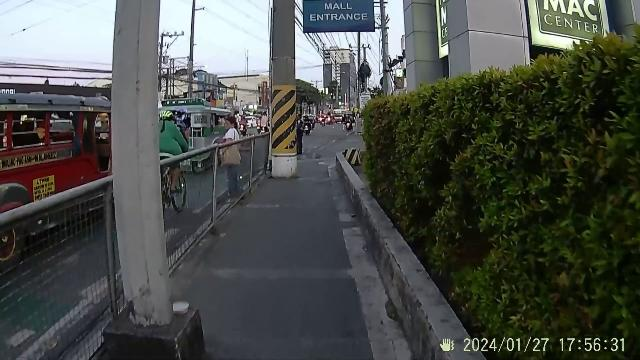utility_post: (104, 0, 208, 360), (273, 0, 295, 176), (186, 1, 208, 72)
